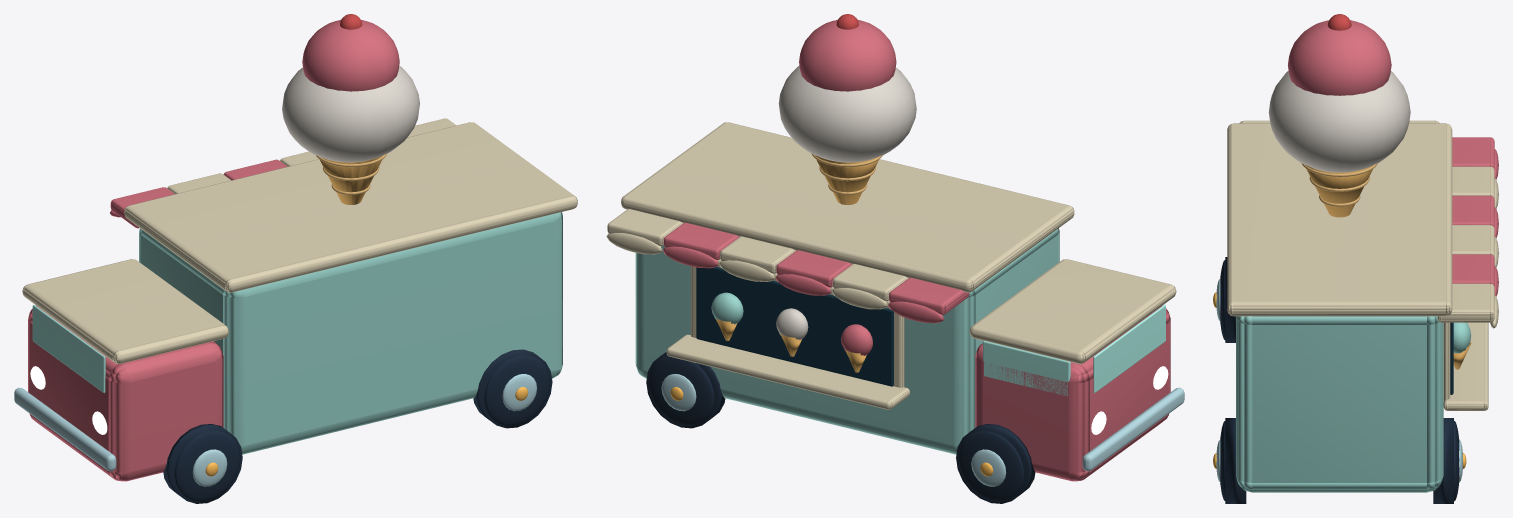
Rendered from icecream.glb.
The picture shows the model from 3 angles, left to right: view 1: azimuth 30°, elevation 25°; view 2: azimuth 150°, elevation 25°; view 3: azimuth 270°, elevation 25°; orthographic projection. The views are drawn at different scales.
Visible parts, largest first — view 1: icecream.Static.vinyl, icecream.Static.metal, icecream.Static.ceramic; view 2: icecream.Static.vinyl, icecream.Static.ceramic, icecream.Static.metal; view 3: icecream.Static.vinyl, icecream.Static.metal.
Boxes of the visible parts, bbox=[...] form: icecream.Static.vinyl: bbox=[22, 14, 577, 503]; icecream.Static.metal: bbox=[14, 374, 537, 486]; icecream.Static.ceramic: bbox=[32, 305, 105, 393]; icecream.Static.vinyl: bbox=[606, 14, 1176, 503]; icecream.Static.ceramic: bbox=[983, 304, 1165, 396]; icecream.Static.metal: bbox=[661, 374, 1184, 486]; icecream.Static.vinyl: bbox=[1220, 14, 1498, 503]; icecream.Static.metal: bbox=[1213, 279, 1466, 481].
Size of the model in its own units: 16.57 by 13.6 by 8.26.
